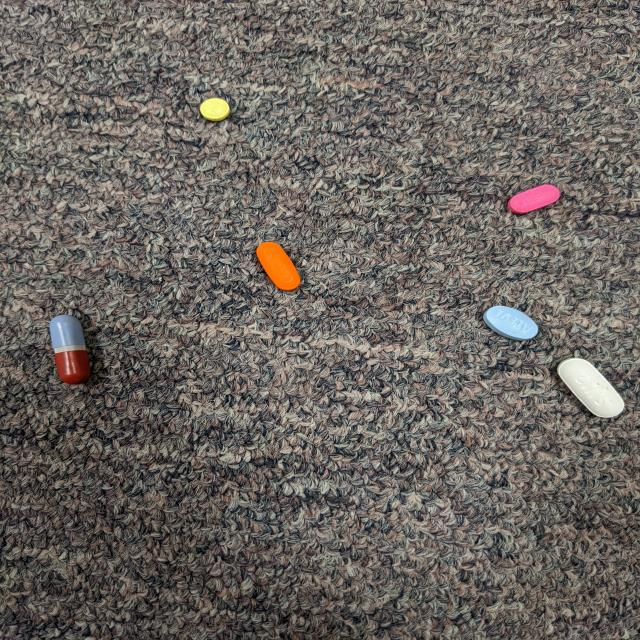non-organic waste: (556, 356, 626, 419), (48, 314, 92, 385), (254, 240, 301, 292), (482, 305, 540, 341), (506, 183, 560, 216), (198, 97, 232, 123)
